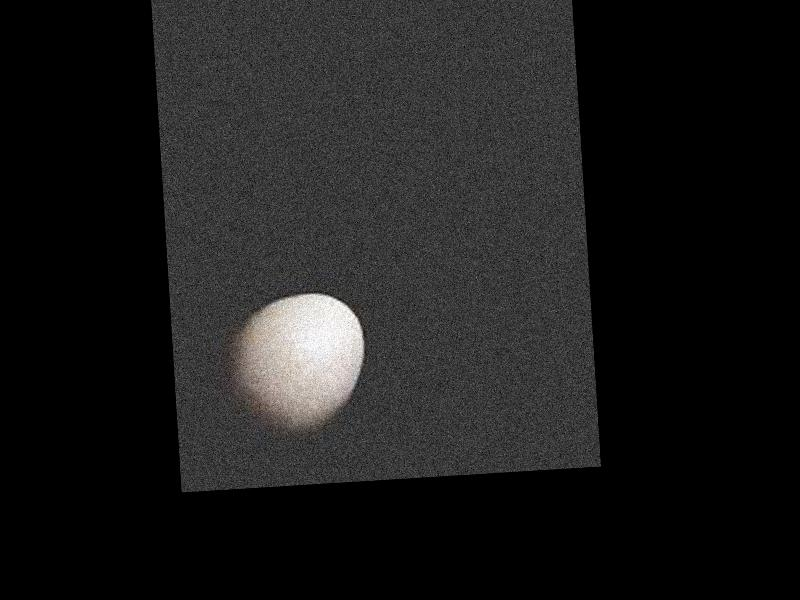Eggs: (223, 290, 370, 441)
